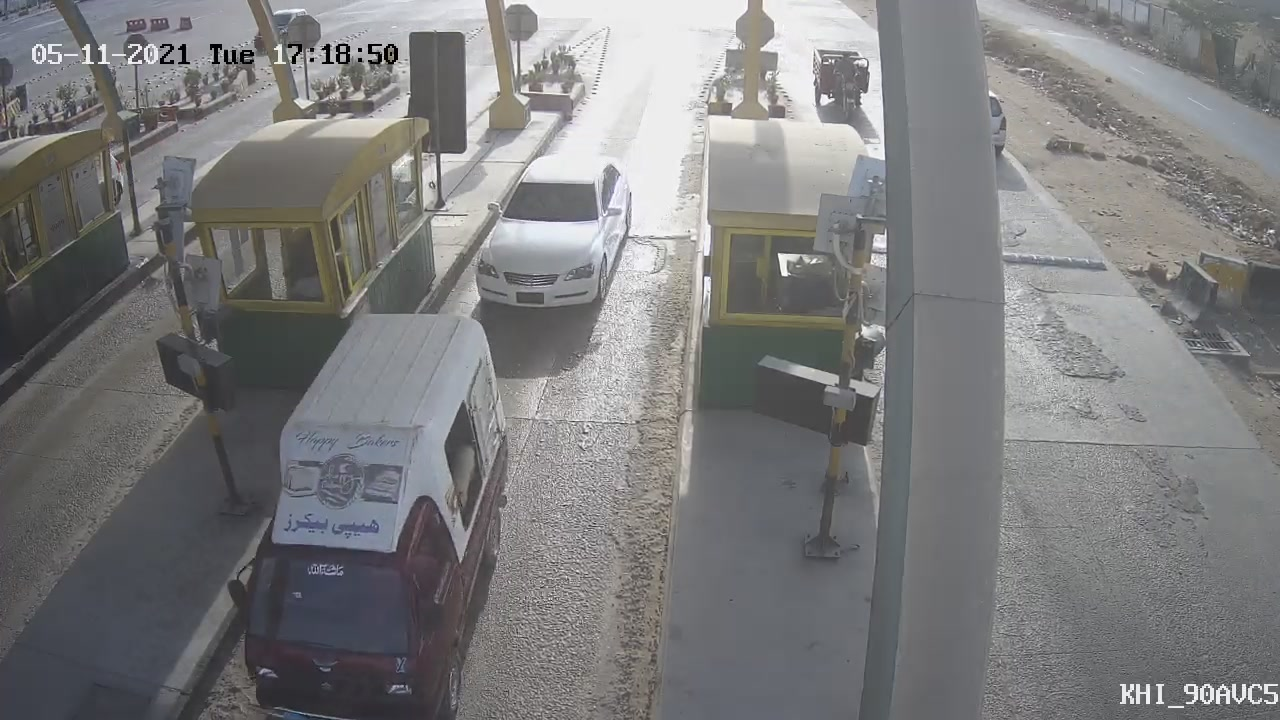F1: (455, 138, 651, 329)
